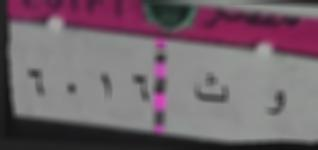0: (64, 72, 82, 103)
1: (99, 70, 117, 109)
6: (21, 62, 50, 105), (128, 70, 153, 109)
thaa: (190, 69, 231, 111)
waw: (256, 80, 290, 121)
